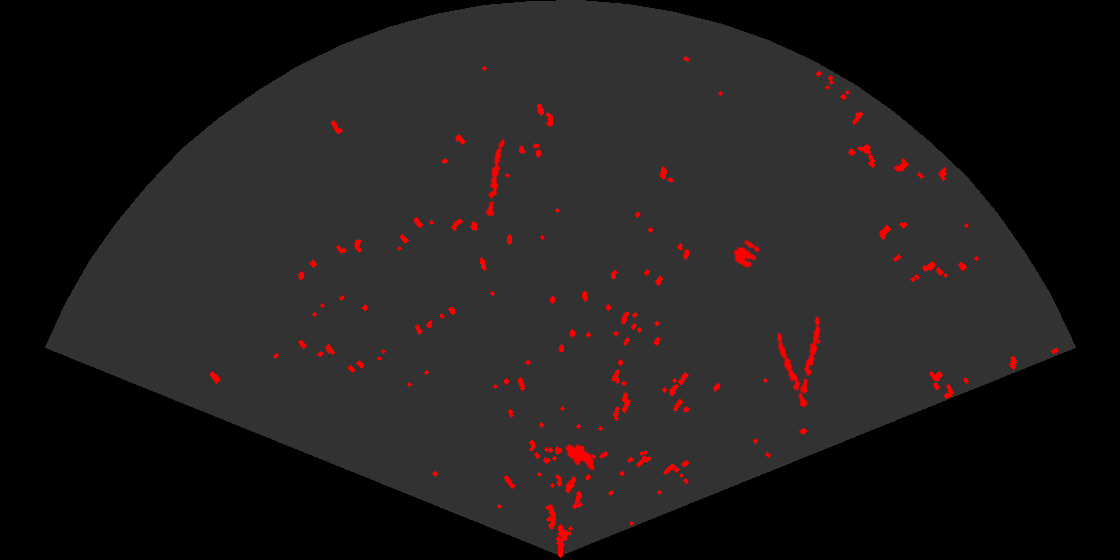AUV: (563, 443, 596, 472)
ball: (732, 239, 762, 269)
chain: (775, 331, 810, 413), (798, 314, 822, 398), (484, 137, 506, 217)
